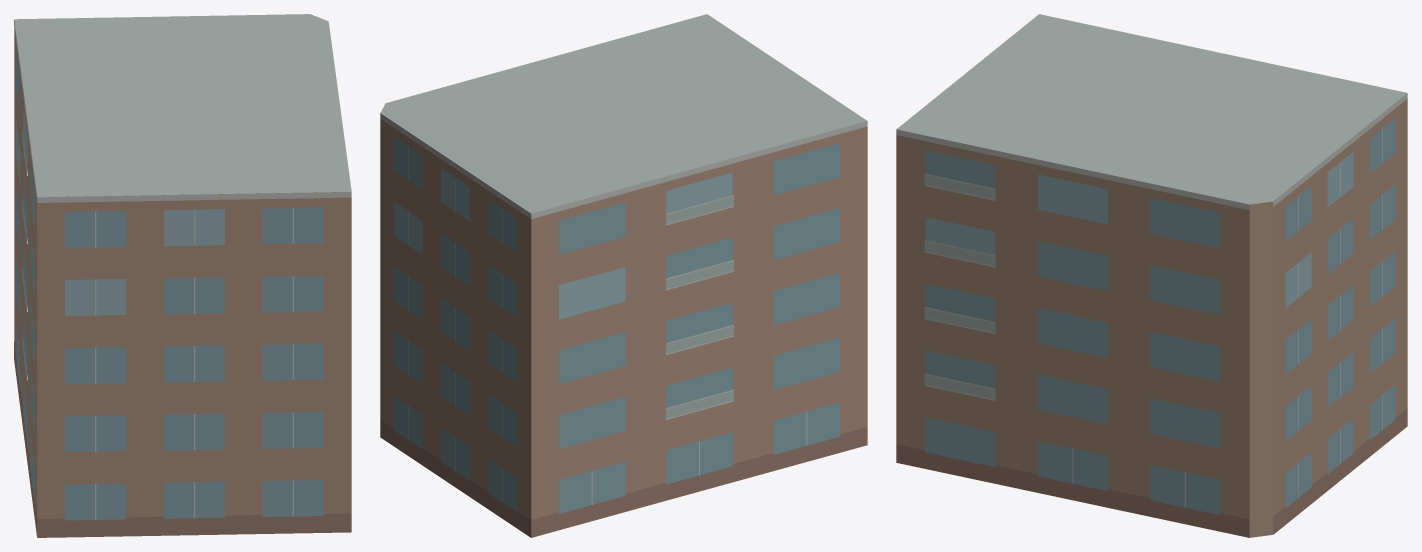
Rendered from survey-upis-32962066.glb.
3 renders of one model, left to right at view 1: azimuth 30°, elevation 25°; view 2: azimuth 150°, elevation 25°; view 3: azimuth 270°, elevation 25°, orthographic. The views are drawn at different scales.
Visible parts, largest first — view 1: survey-upis-32962066.tmp; view 2: survey-upis-32962066.tmp; view 3: survey-upis-32962066.tmp.
Boxes of the visible parts, bbox=[...] form: survey-upis-32962066.tmp: bbox=[14, 14, 351, 537]; survey-upis-32962066.tmp: bbox=[380, 14, 867, 537]; survey-upis-32962066.tmp: bbox=[896, 14, 1407, 537].
Bounding box in the file's own units: 17.78 × 14.5 × 20.17.
